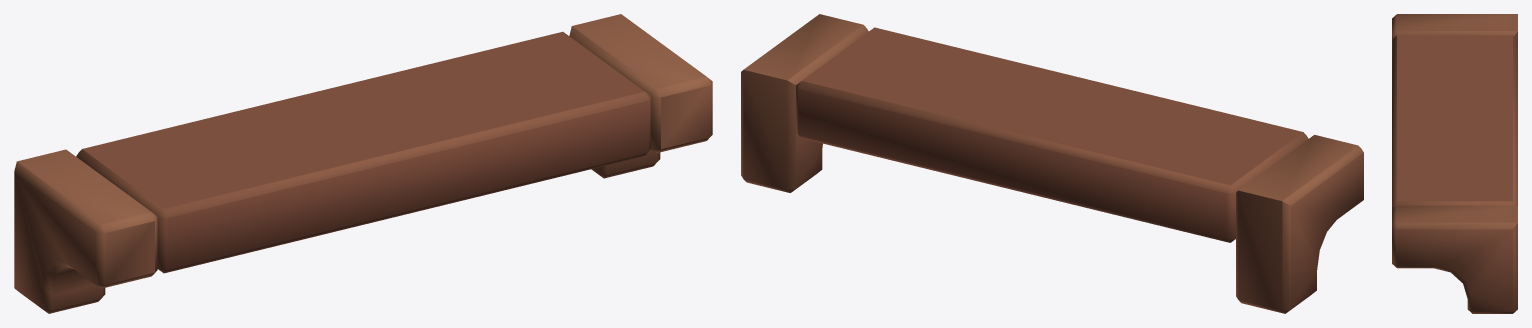
File: kk_furniture_shelf_A_big.glb
3 views of the same model, side by side, from view 1: azimuth 30°, elevation 25°; view 2: azimuth 150°, elevation 25°; view 3: azimuth 270°, elevation 25° (orthographic). The views are drawn at different scales.
Visible parts, largest first — view 1: kk_furniture_shelf_A_big; view 2: kk_furniture_shelf_A_big; view 3: kk_furniture_shelf_A_big.
Part boxes in pixels (bbox=[...]): kk_furniture_shelf_A_big: bbox=[14, 14, 712, 313]; kk_furniture_shelf_A_big: bbox=[741, 14, 1363, 313]; kk_furniture_shelf_A_big: bbox=[1392, 14, 1517, 313].
Size of the model in its own units: 2 by 0.4 by 0.5.
